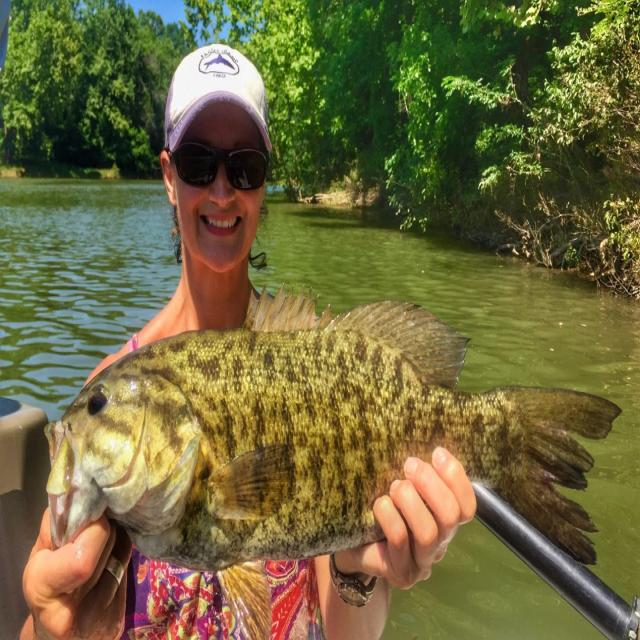Bass - Smallmouth: (46, 303, 620, 635)
